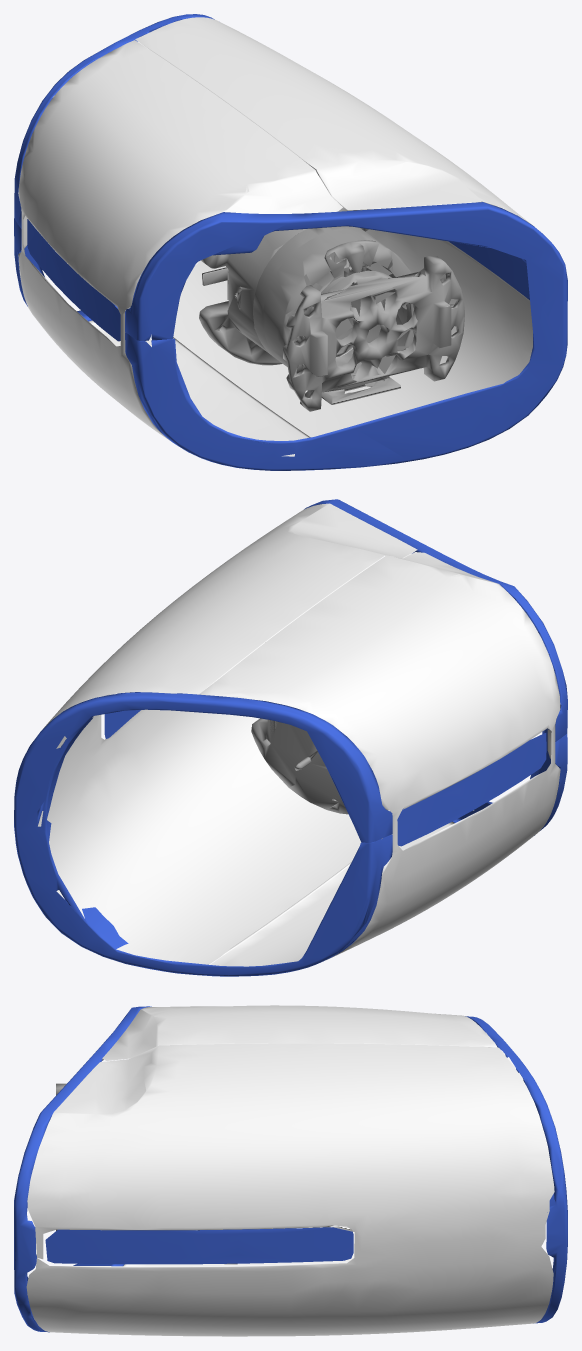
Rendered from sim_ecub_1-1_r_hip_3.obj.
3 views of the same model, one above another, from view 1: azimuth 30°, elevation 25°; view 2: azimuth 150°, elevation 25°; view 3: azimuth 270°, elevation 25° (orthographic). The views are drawn at different scales.
Bounding box in the file's own units: 187 × 138 × 266.
